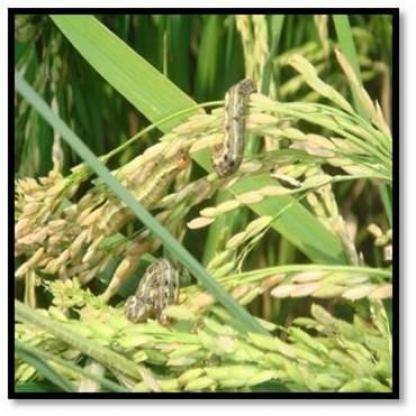armyworm: (209, 74, 261, 176), (119, 254, 182, 336)
